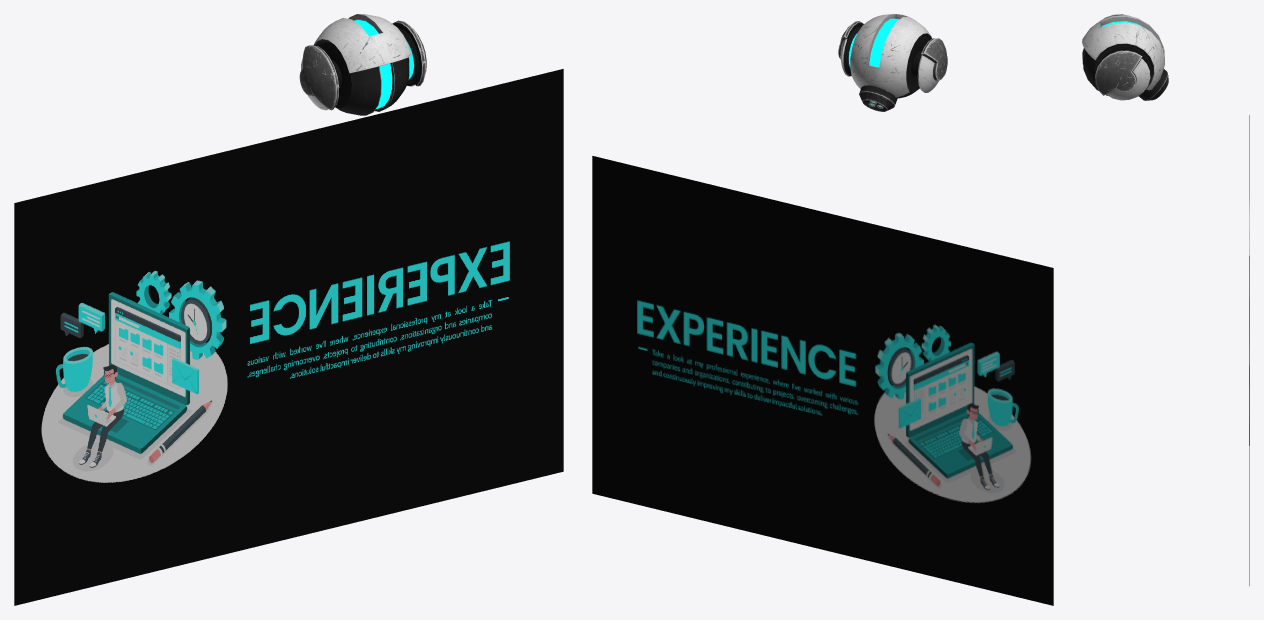
File: experience.fbx
3 views of the same model, side by side, from view 1: azimuth 30°, elevation 25°; view 2: azimuth 150°, elevation 25°; view 3: azimuth 270°, elevation 25° (orthographic). The views are drawn at different scales.
Visible parts, largest first — view 1: Object_5, Object_2; view 2: Object_5, Object_2; view 3: Object_2, Object_5.
Part boxes in pixels (x1,y1,x2,y2): Object_5: (14, 69, 563, 605); Object_2: (299, 14, 426, 115); Object_5: (592, 156, 1053, 605); Object_2: (838, 14, 947, 111); Object_2: (1082, 14, 1168, 100); Object_5: (1249, 115, 1249, 585).
Size of the model in its own units: 53.84 by 54.04 by 17.33.
Materials: 2 (2 with a texture image).
